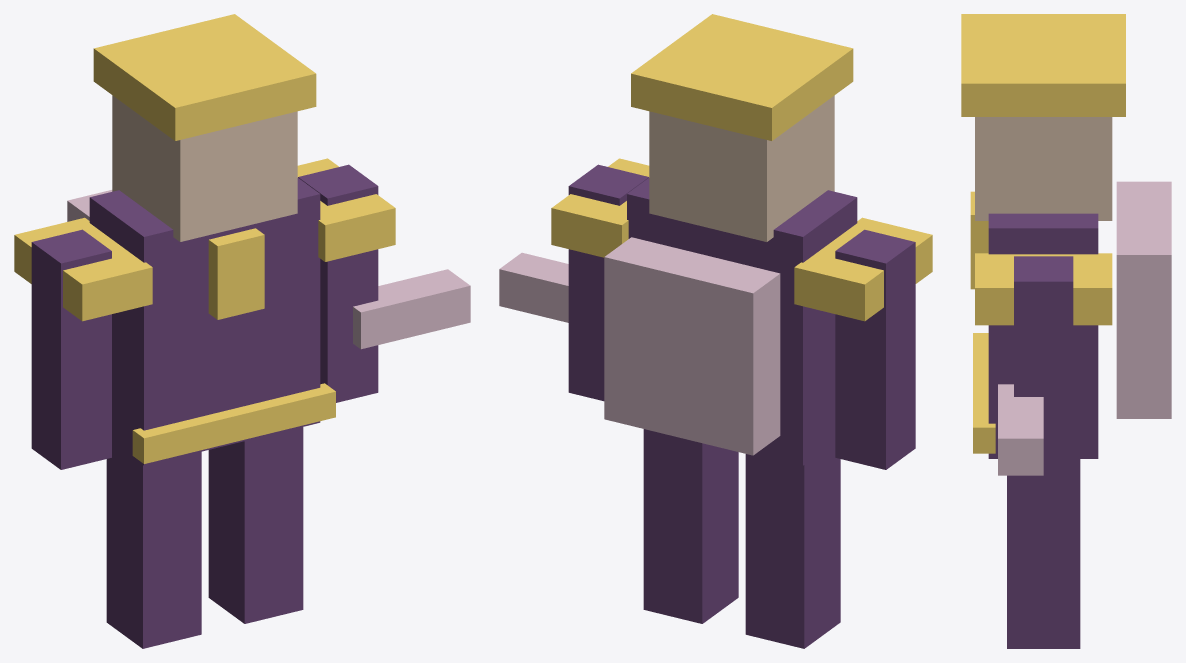
The model's file is 04_vexa_brightlock_diver_from_express.glb.
3 renders of one model, left to right at view 1: azimuth 30°, elevation 25°; view 2: azimuth 150°, elevation 25°; view 3: azimuth 270°, elevation 25°, orthographic.
Visible parts, largest first — view 1: Vexa Brightlock, Diver from Express; view 2: Vexa Brightlock, Diver from Express; view 3: Vexa Brightlock, Diver from Express.
Boxes of the visible parts, x1,y1,x2,y2 form: Vexa Brightlock, Diver from Express: (14,14,470,648); Vexa Brightlock, Diver from Express: (499,14,932,648); Vexa Brightlock, Diver from Express: (961,14,1171,648).
Bounding box in the file's own units: 1.05 × 1.39 × 0.473.
